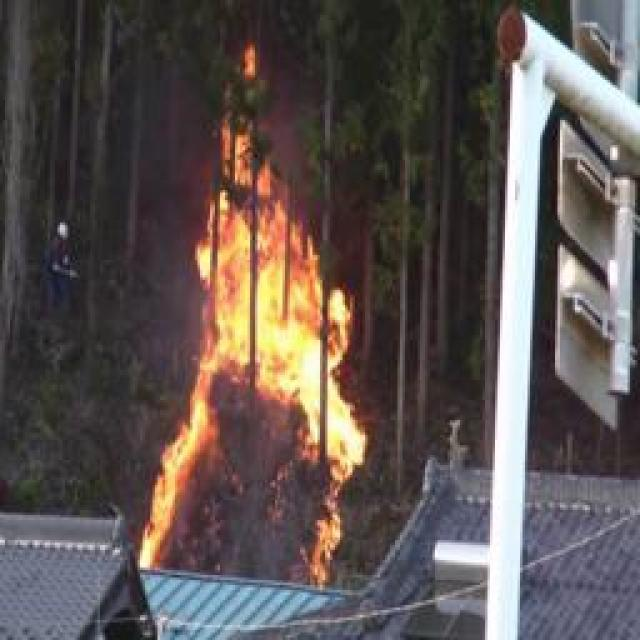Fire: (146, 113, 366, 582)
